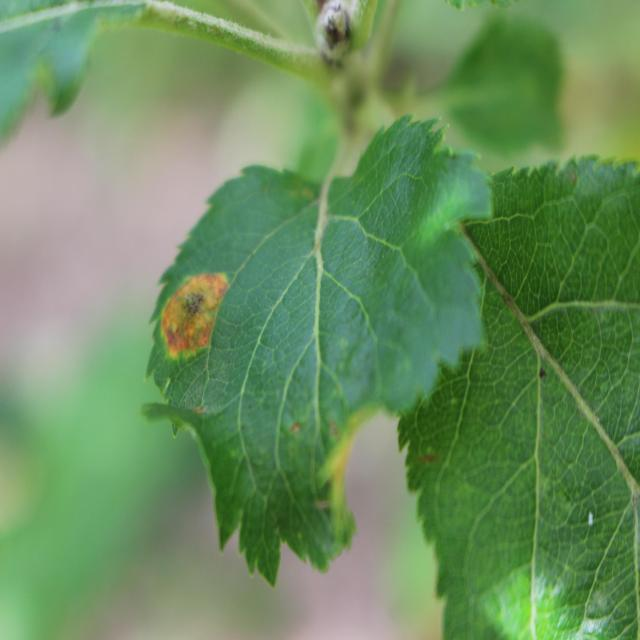rust: (140, 116, 493, 592)
